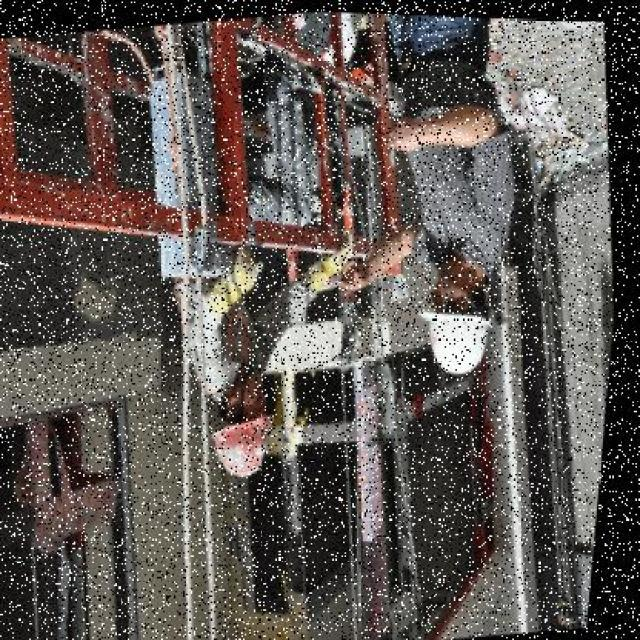helmet: (413, 272, 508, 378), (209, 388, 291, 481)
